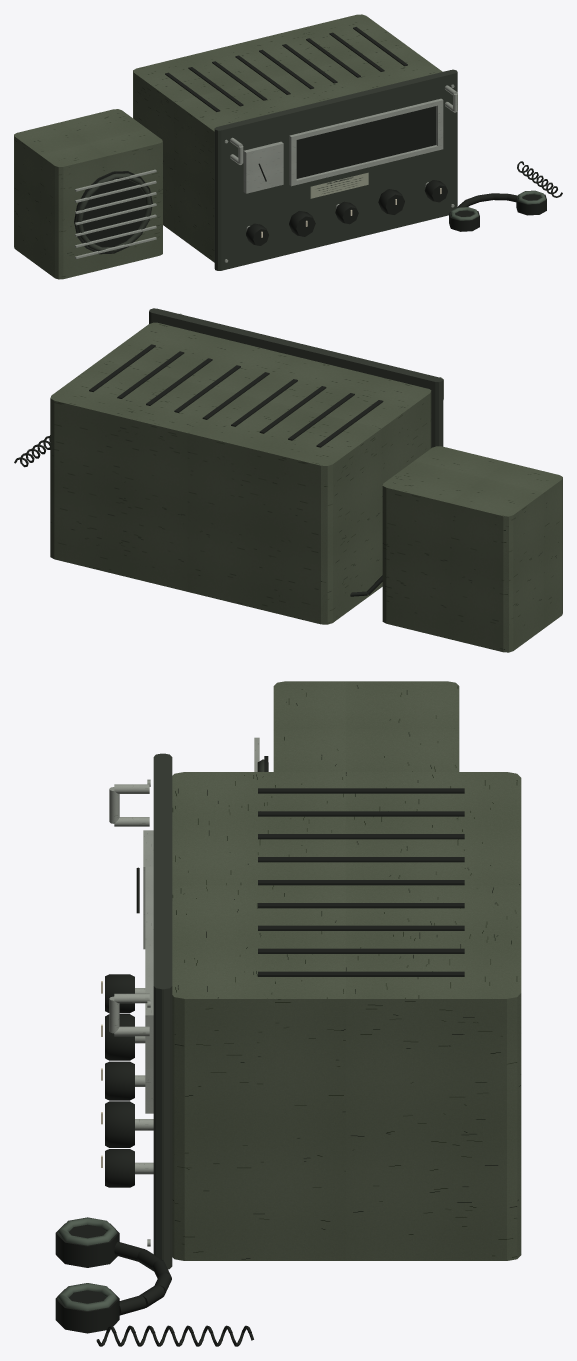
File: SM_FieldKit_Receiver_LOD1.fbx
The picture shows the model from 3 angles, top to bottom: view 1: azimuth 30°, elevation 25°; view 2: azimuth 150°, elevation 25°; view 3: azimuth 270°, elevation 25°; orthographic projection. The views are drawn at different scales.
Visible parts, largest first — view 1: SM_FieldKit_Receiver_LOD1; view 2: SM_FieldKit_Receiver_LOD1; view 3: SM_FieldKit_Receiver_LOD1.
Boxes of the visible parts, bbox=[...] form: SM_FieldKit_Receiver_LOD1: bbox=[14, 14, 562, 279]; SM_FieldKit_Receiver_LOD1: bbox=[14, 308, 562, 652]; SM_FieldKit_Receiver_LOD1: bbox=[55, 681, 521, 1346].
Size of the model in its own units: 1.03 by 0.451 by 0.309.
